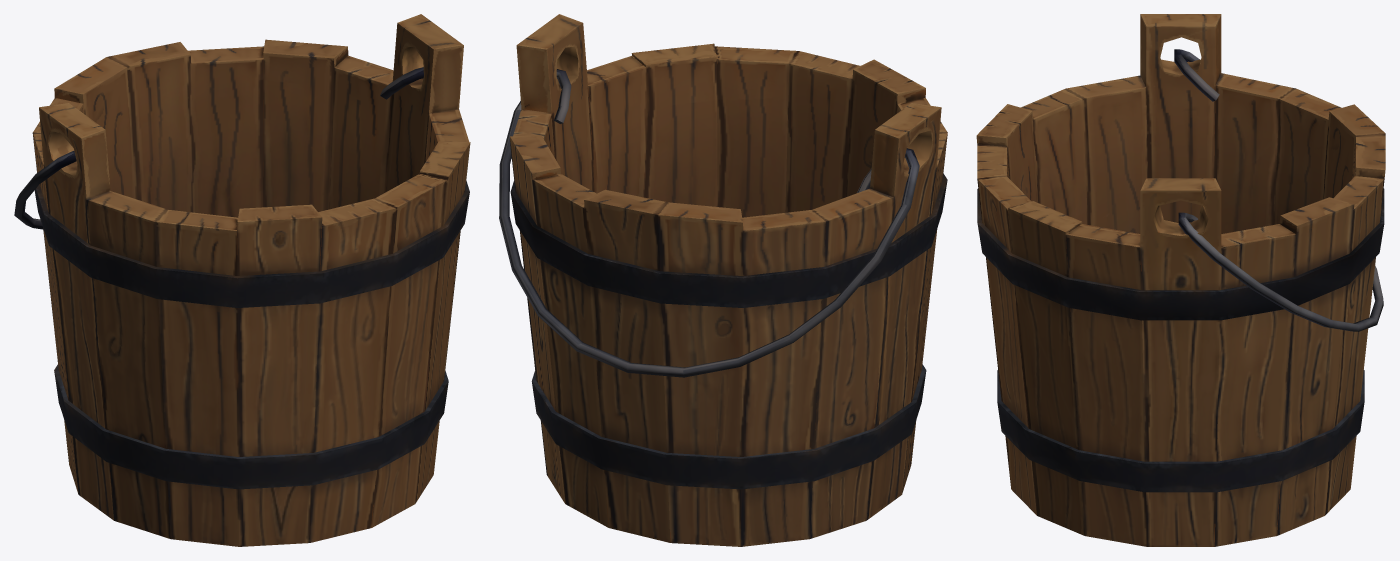
The model's file is obj_handpainted_wooden_bucket_480cc3.glb.
3 renders of one model, left to right at view 1: azimuth 30°, elevation 25°; view 2: azimuth 150°, elevation 25°; view 3: azimuth 270°, elevation 25°, orthographic. The views are drawn at different scales.
Parts seen in each view (by area): view 1: obj_handpainted_wooden_bucket_480cc3; view 2: obj_handpainted_wooden_bucket_480cc3; view 3: obj_handpainted_wooden_bucket_480cc3.
Part boxes in pixels (bbox=[...]): obj_handpainted_wooden_bucket_480cc3: bbox=[14, 14, 470, 546]; obj_handpainted_wooden_bucket_480cc3: bbox=[499, 14, 947, 546]; obj_handpainted_wooden_bucket_480cc3: bbox=[976, 14, 1385, 546].
Bounding box in the file's own units: 0.2637 × 0.25 × 0.2485.
Materials: 1 (1 with a texture image).
